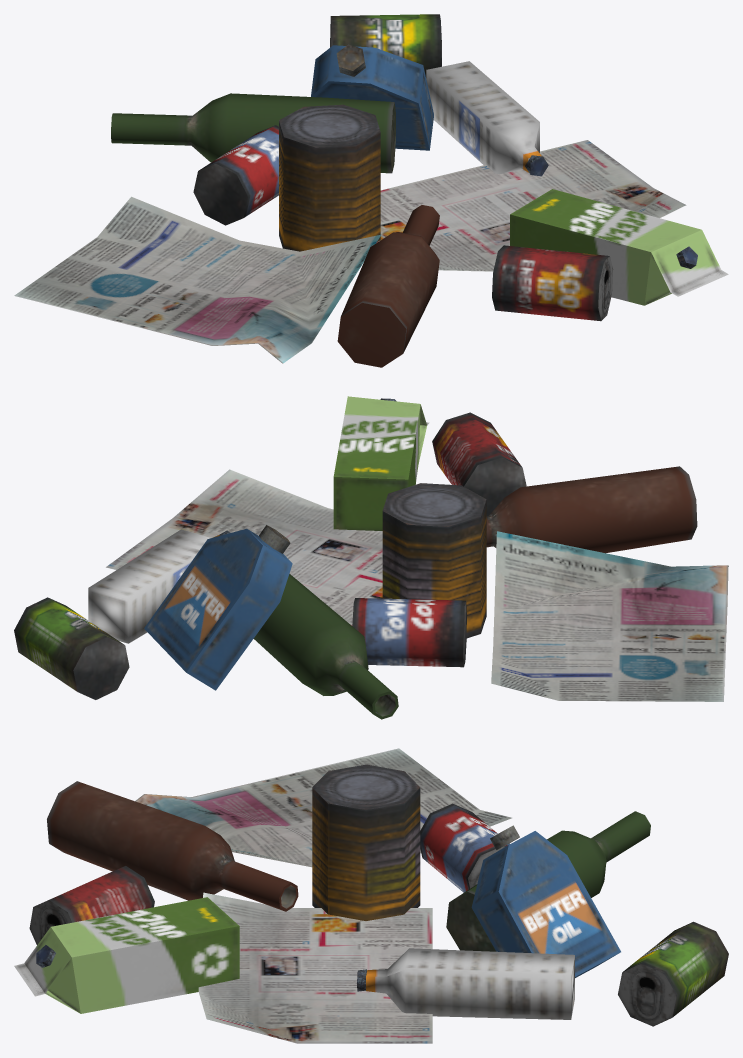
The model's file is Garbage_06_LOD1.fbx.
3 views of the same model, one above another, from view 1: azimuth 30°, elevation 25°; view 2: azimuth 150°, elevation 25°; view 3: azimuth 270°, elevation 25° (orthographic). The views are drawn at different scales.
Visible parts, largest first — view 1: polySurface851; view 2: polySurface851; view 3: polySurface851.
Boxes of the visible parts, x1,y1,x2,y2 form: polySurface851: (14, 14, 728, 367); polySurface851: (14, 396, 728, 719); polySurface851: (14, 748, 728, 1043).
Bounding box in the file's own units: 195 × 41.82 × 200.
